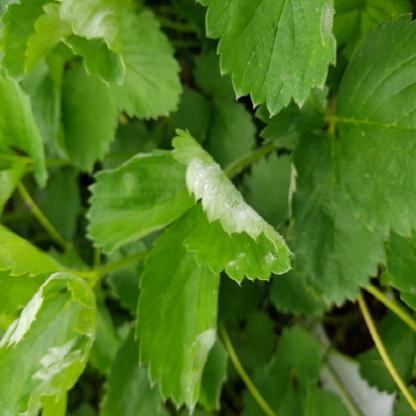Strawberry_Powdery_Mildew_Leaf: (170, 126, 295, 288), (134, 199, 221, 416), (193, 0, 336, 119), (0, 271, 98, 415)
